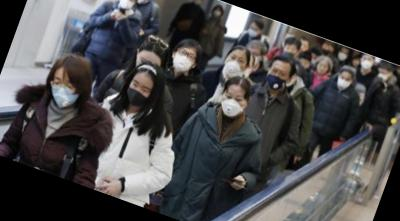with_mask: (43, 73, 84, 113), (121, 76, 154, 111), (216, 88, 249, 122), (262, 64, 292, 94), (169, 46, 198, 77), (221, 50, 249, 80), (334, 72, 353, 93), (358, 55, 376, 72), (335, 49, 350, 64), (245, 25, 260, 39), (376, 68, 391, 82), (213, 6, 223, 18)
without_mask: (314, 59, 330, 76)
